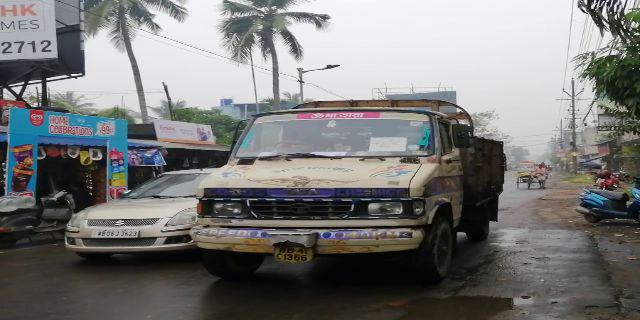Car: (61, 161, 217, 252)
Truck: (196, 88, 507, 275)
